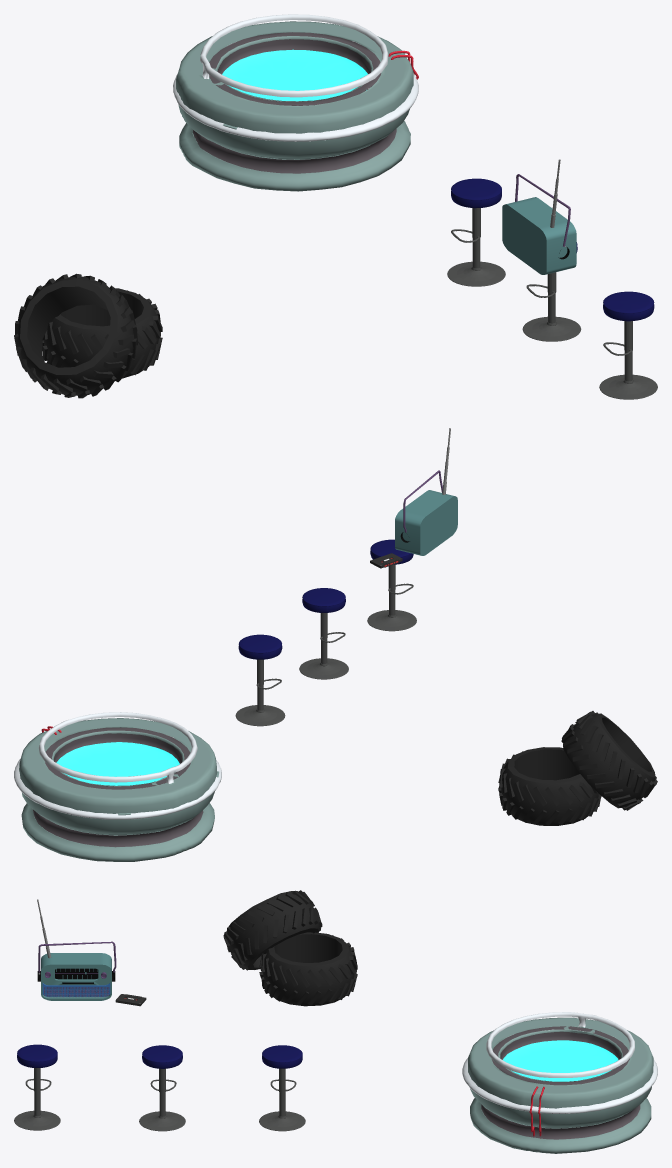
Rendered from compressed_Decors2.glb.
3 renders of one model, top to bottom at view 1: azimuth 30°, elevation 25°; view 2: azimuth 150°, elevation 25°; view 3: azimuth 270°, elevation 25°, orthographic. The views are drawn at different scales.
Visible parts, largest first — view 1: HologramBase, Debris_Tires, radio, Stool2, Stool2.002, Stool2.001; view 2: HologramBase, Debris_Tires, radio, Stool2.001, Stool2, Stool2.002; view 3: HologramBase, Debris_Tires, radio, Stool2, Stool2.001, Stool2.002.
Boxes of the visible parts, x1=… form: HologramBase: x1=173, y1=14, x2=418, y2=191; Debris_Tires: x1=14, y1=273, x2=162, y2=398; radio: x1=502, y1=159, x2=576, y2=274; Stool2: x1=447, y1=178, x2=505, y2=286; Stool2.002: x1=599, y1=291, x2=657, y2=399; Stool2.001: x1=522, y1=242, x2=581, y2=341; HologramBase: x1=14, y1=712, x2=221, y2=861; Debris_Tires: x1=498, y1=711, x2=657, y2=825; radio: x1=395, y1=428, x2=457, y2=555; Stool2.001: x1=299, y1=588, x2=348, y2=679; Stool2: x1=235, y1=634, x2=285, y2=726; Stool2.002: x1=367, y1=539, x2=416, y2=631; HologramBase: x1=462, y1=1012, x2=657, y2=1153; Debris_Tires: x1=223, y1=890, x2=357, y2=1006; radio: x1=37, y1=899, x2=116, y2=1000; Stool2: x1=259, y1=1045, x2=305, y2=1131; Stool2.001: x1=139, y1=1045, x2=185, y2=1131; Stool2.002: x1=14, y1=1044, x2=60, y2=1130.
Bounding box in the file's own units: 9.41 × 4.12 × 11.79.
